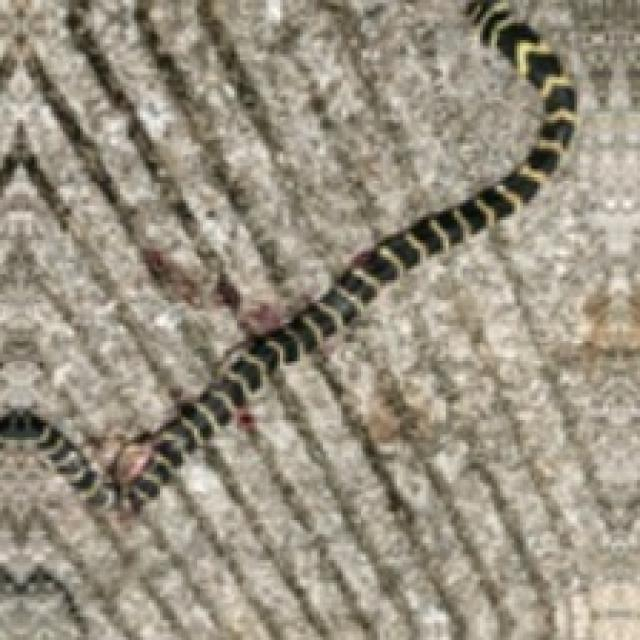king cobra: (0, 0, 571, 506)
